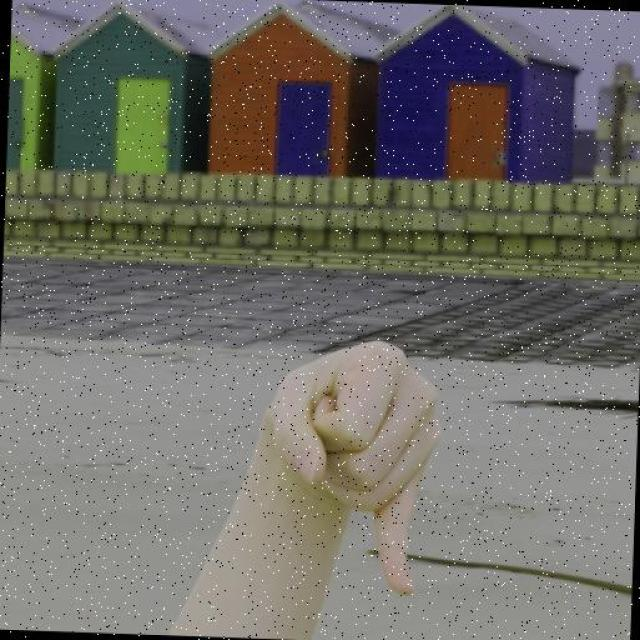J: (229, 318, 462, 621)
